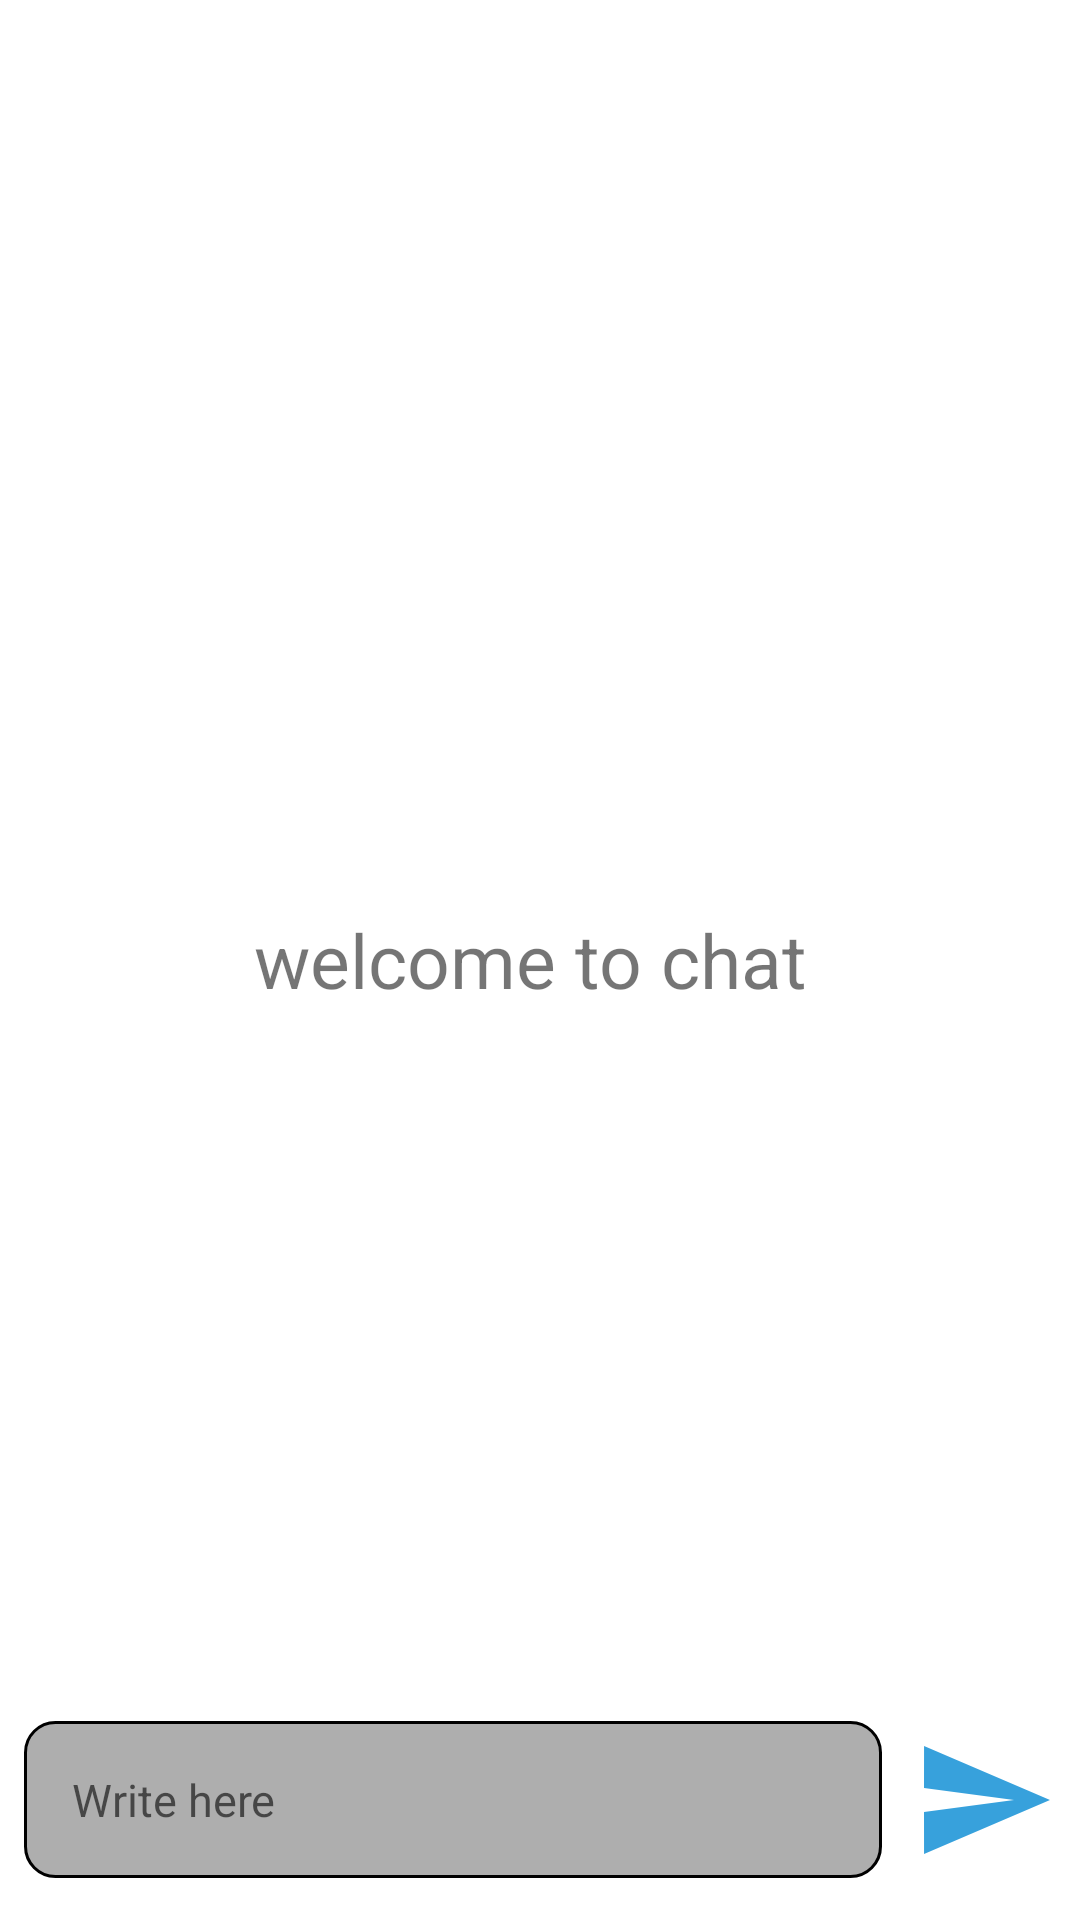

Named icons in this screenshot (1080*1920) and their centers, point (x, y):
send: point (987, 1800)
